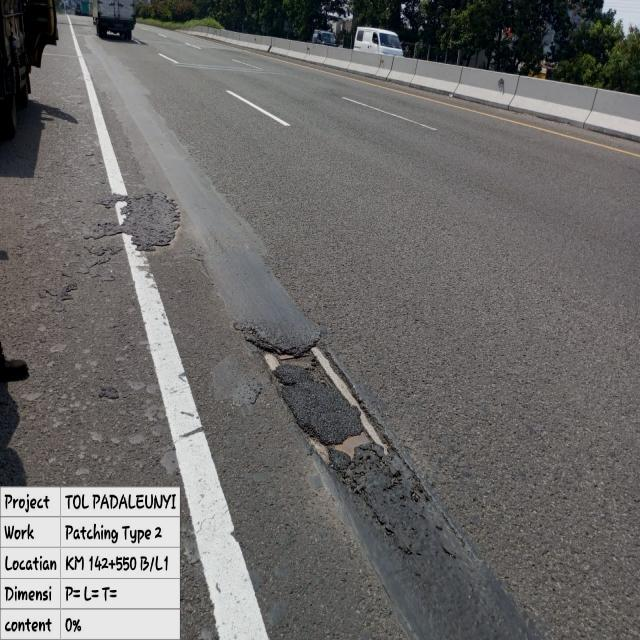Buraco: (226, 319, 407, 502)
